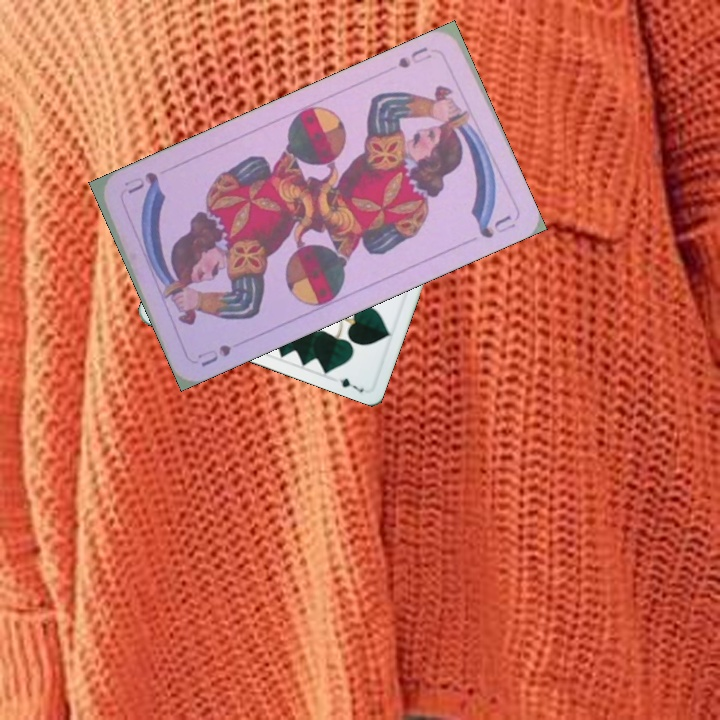SU: (193, 340, 234, 370), (394, 42, 431, 71)
